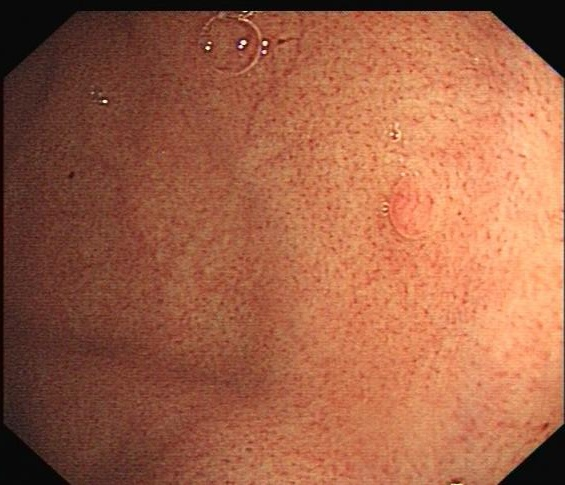Polyp: (383, 171, 446, 244)
